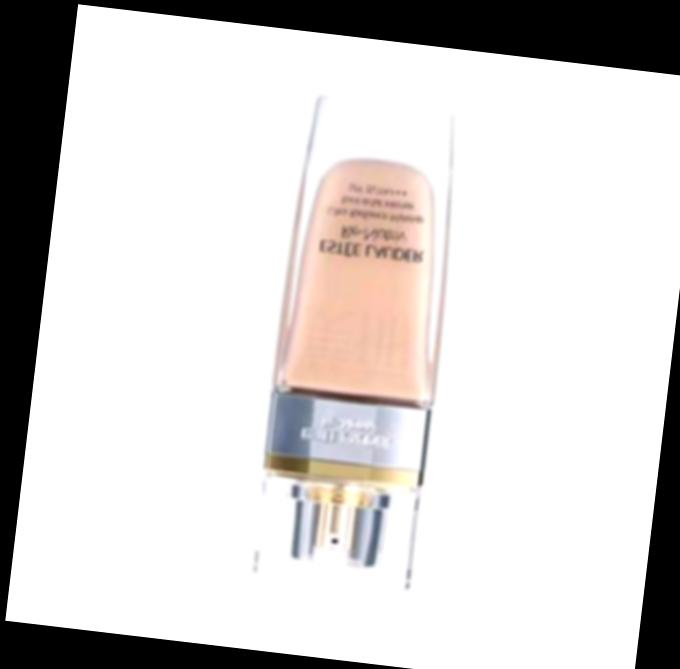cosmetic: (251, 91, 463, 590)
